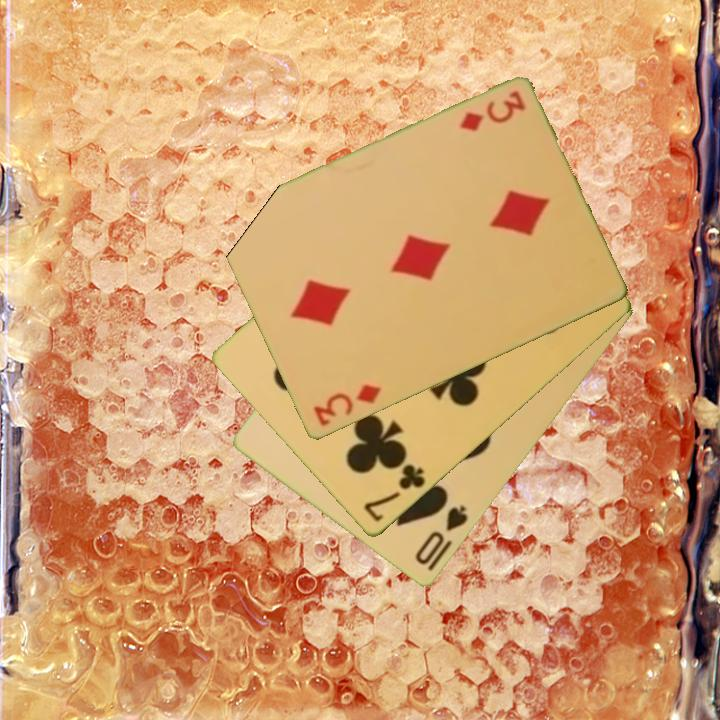10s: (411, 502, 471, 569)
3d: (309, 381, 384, 430), (456, 87, 529, 135)
7c: (360, 461, 428, 526)
